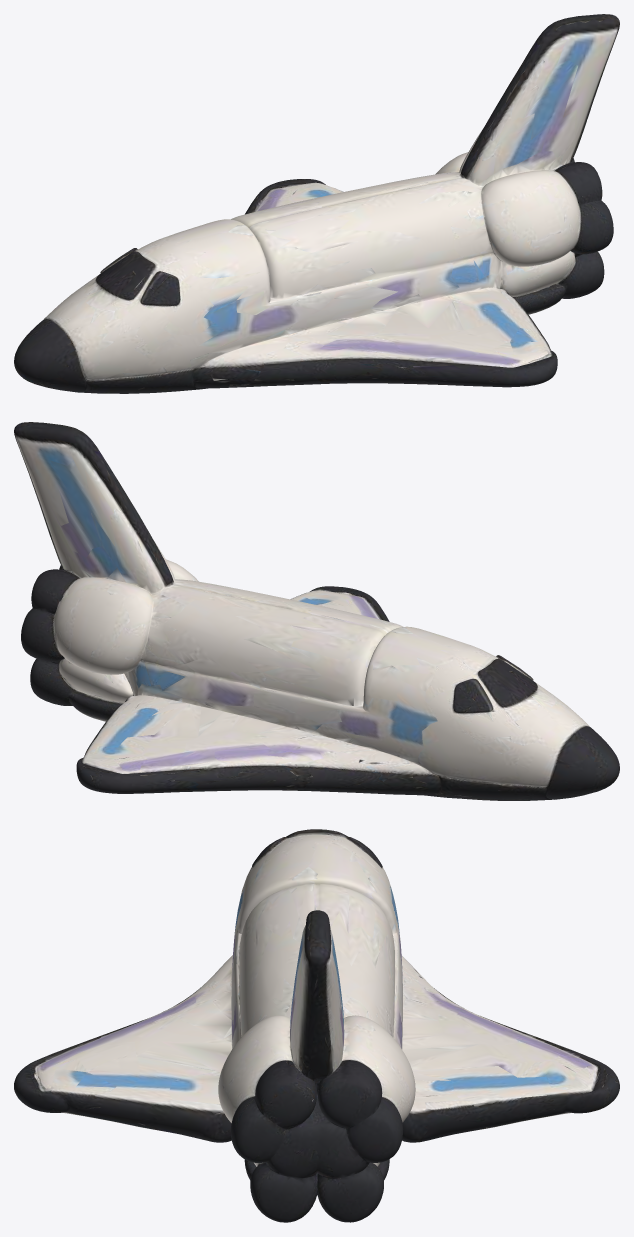
The picture shows the model from 3 angles, top to bottom: view 1: azimuth 30°, elevation 25°; view 2: azimuth 150°, elevation 25°; view 3: azimuth 270°, elevation 25°; orthographic projection. The views are drawn at different scales.
Size of the model in its own units: 1.9 by 0.8108 by 1.43.
Materials: 1 (1 with a texture image).
